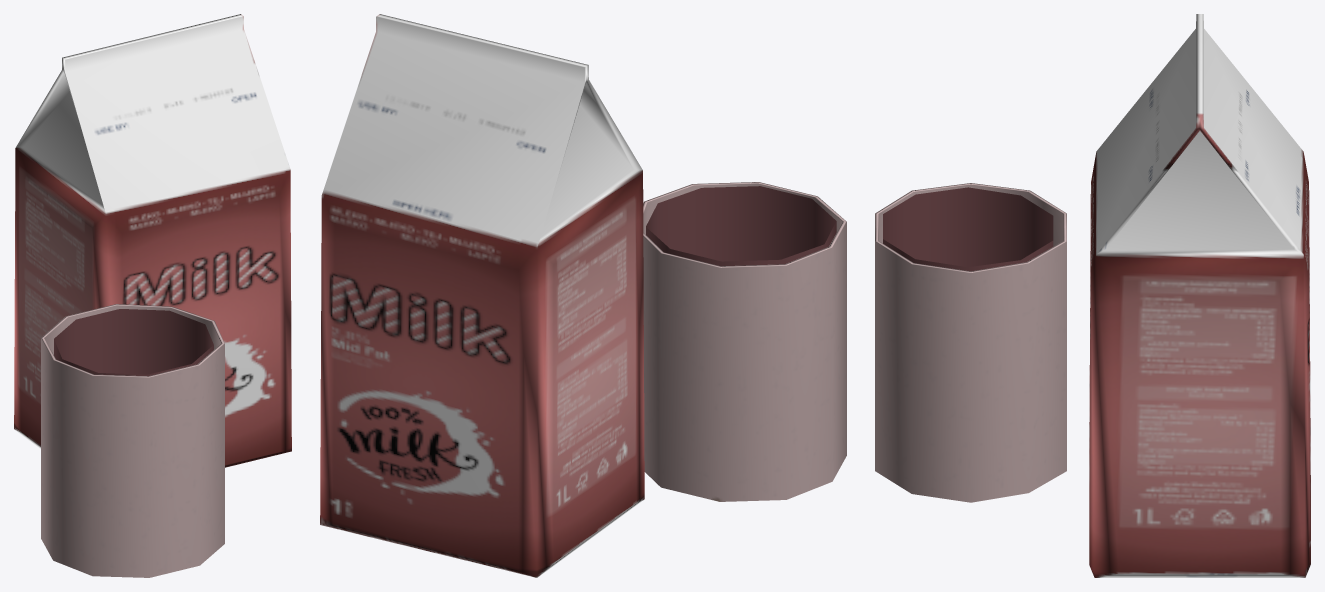
The model's file is milk.fbx.
The picture shows the model from 3 angles, left to right: view 1: azimuth 30°, elevation 25°; view 2: azimuth 150°, elevation 25°; view 3: azimuth 270°, elevation 25°; orthographic projection. The views are drawn at different scales.
Visible parts, largest first — view 1: milk, milk_glass, pPlane1; view 2: milk, milk_glass, pPlane1; view 3: milk, milk_glass, pPlane1.
Boxes of the visible parts, x1,y1,x2,y2 form: milk: [14, 14, 291, 467]; milk_glass: [41, 304, 224, 577]; pPlane1: [54, 309, 213, 376]; milk: [320, 14, 644, 577]; milk_glass: [643, 182, 846, 501]; pPlane1: [646, 186, 836, 266]; milk: [1089, 14, 1310, 577]; milk_glass: [875, 183, 1066, 502]; pPlane1: [883, 187, 1053, 271].
Bounding box in the file's own units: 7.33 × 9.54 × 8.15.
1 material, 1 textured.
